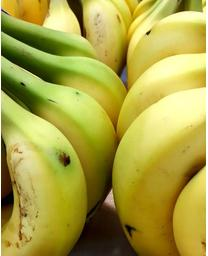banana: (0, 57, 116, 219), (1, 32, 127, 129), (116, 52, 206, 140), (125, 6, 206, 89)
